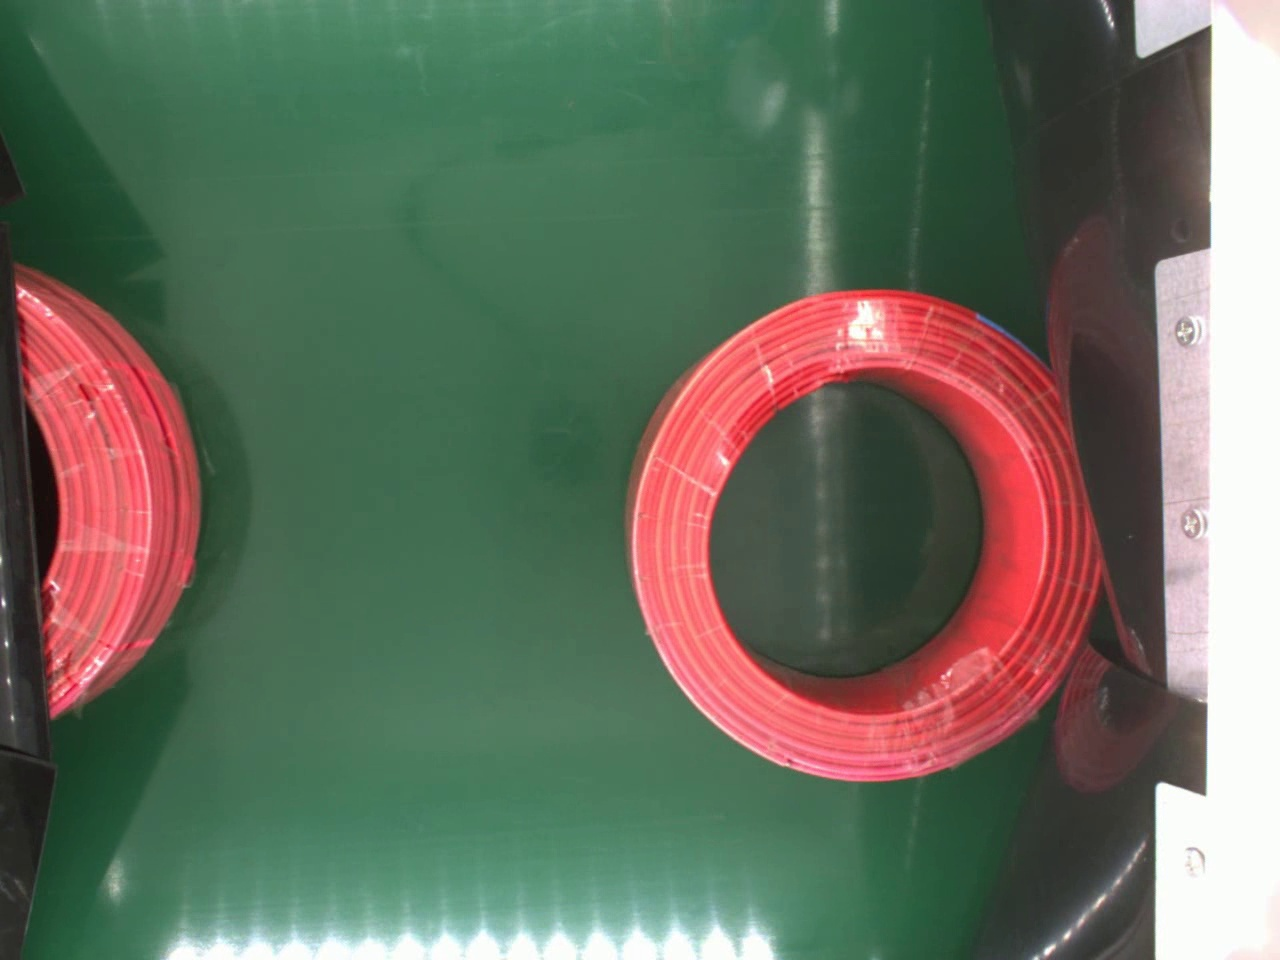red: (618, 285, 1099, 787), (13, 258, 204, 727)
